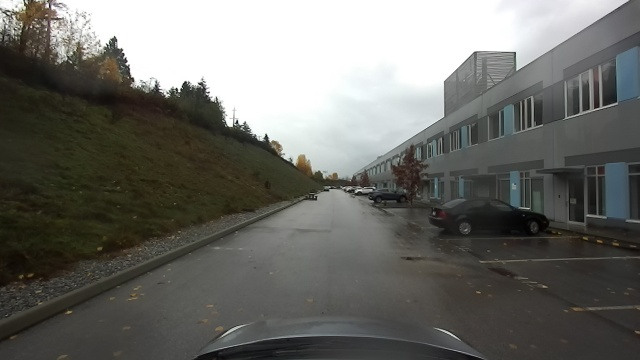car: (428, 195, 551, 237), (368, 189, 406, 205), (351, 185, 368, 195)
